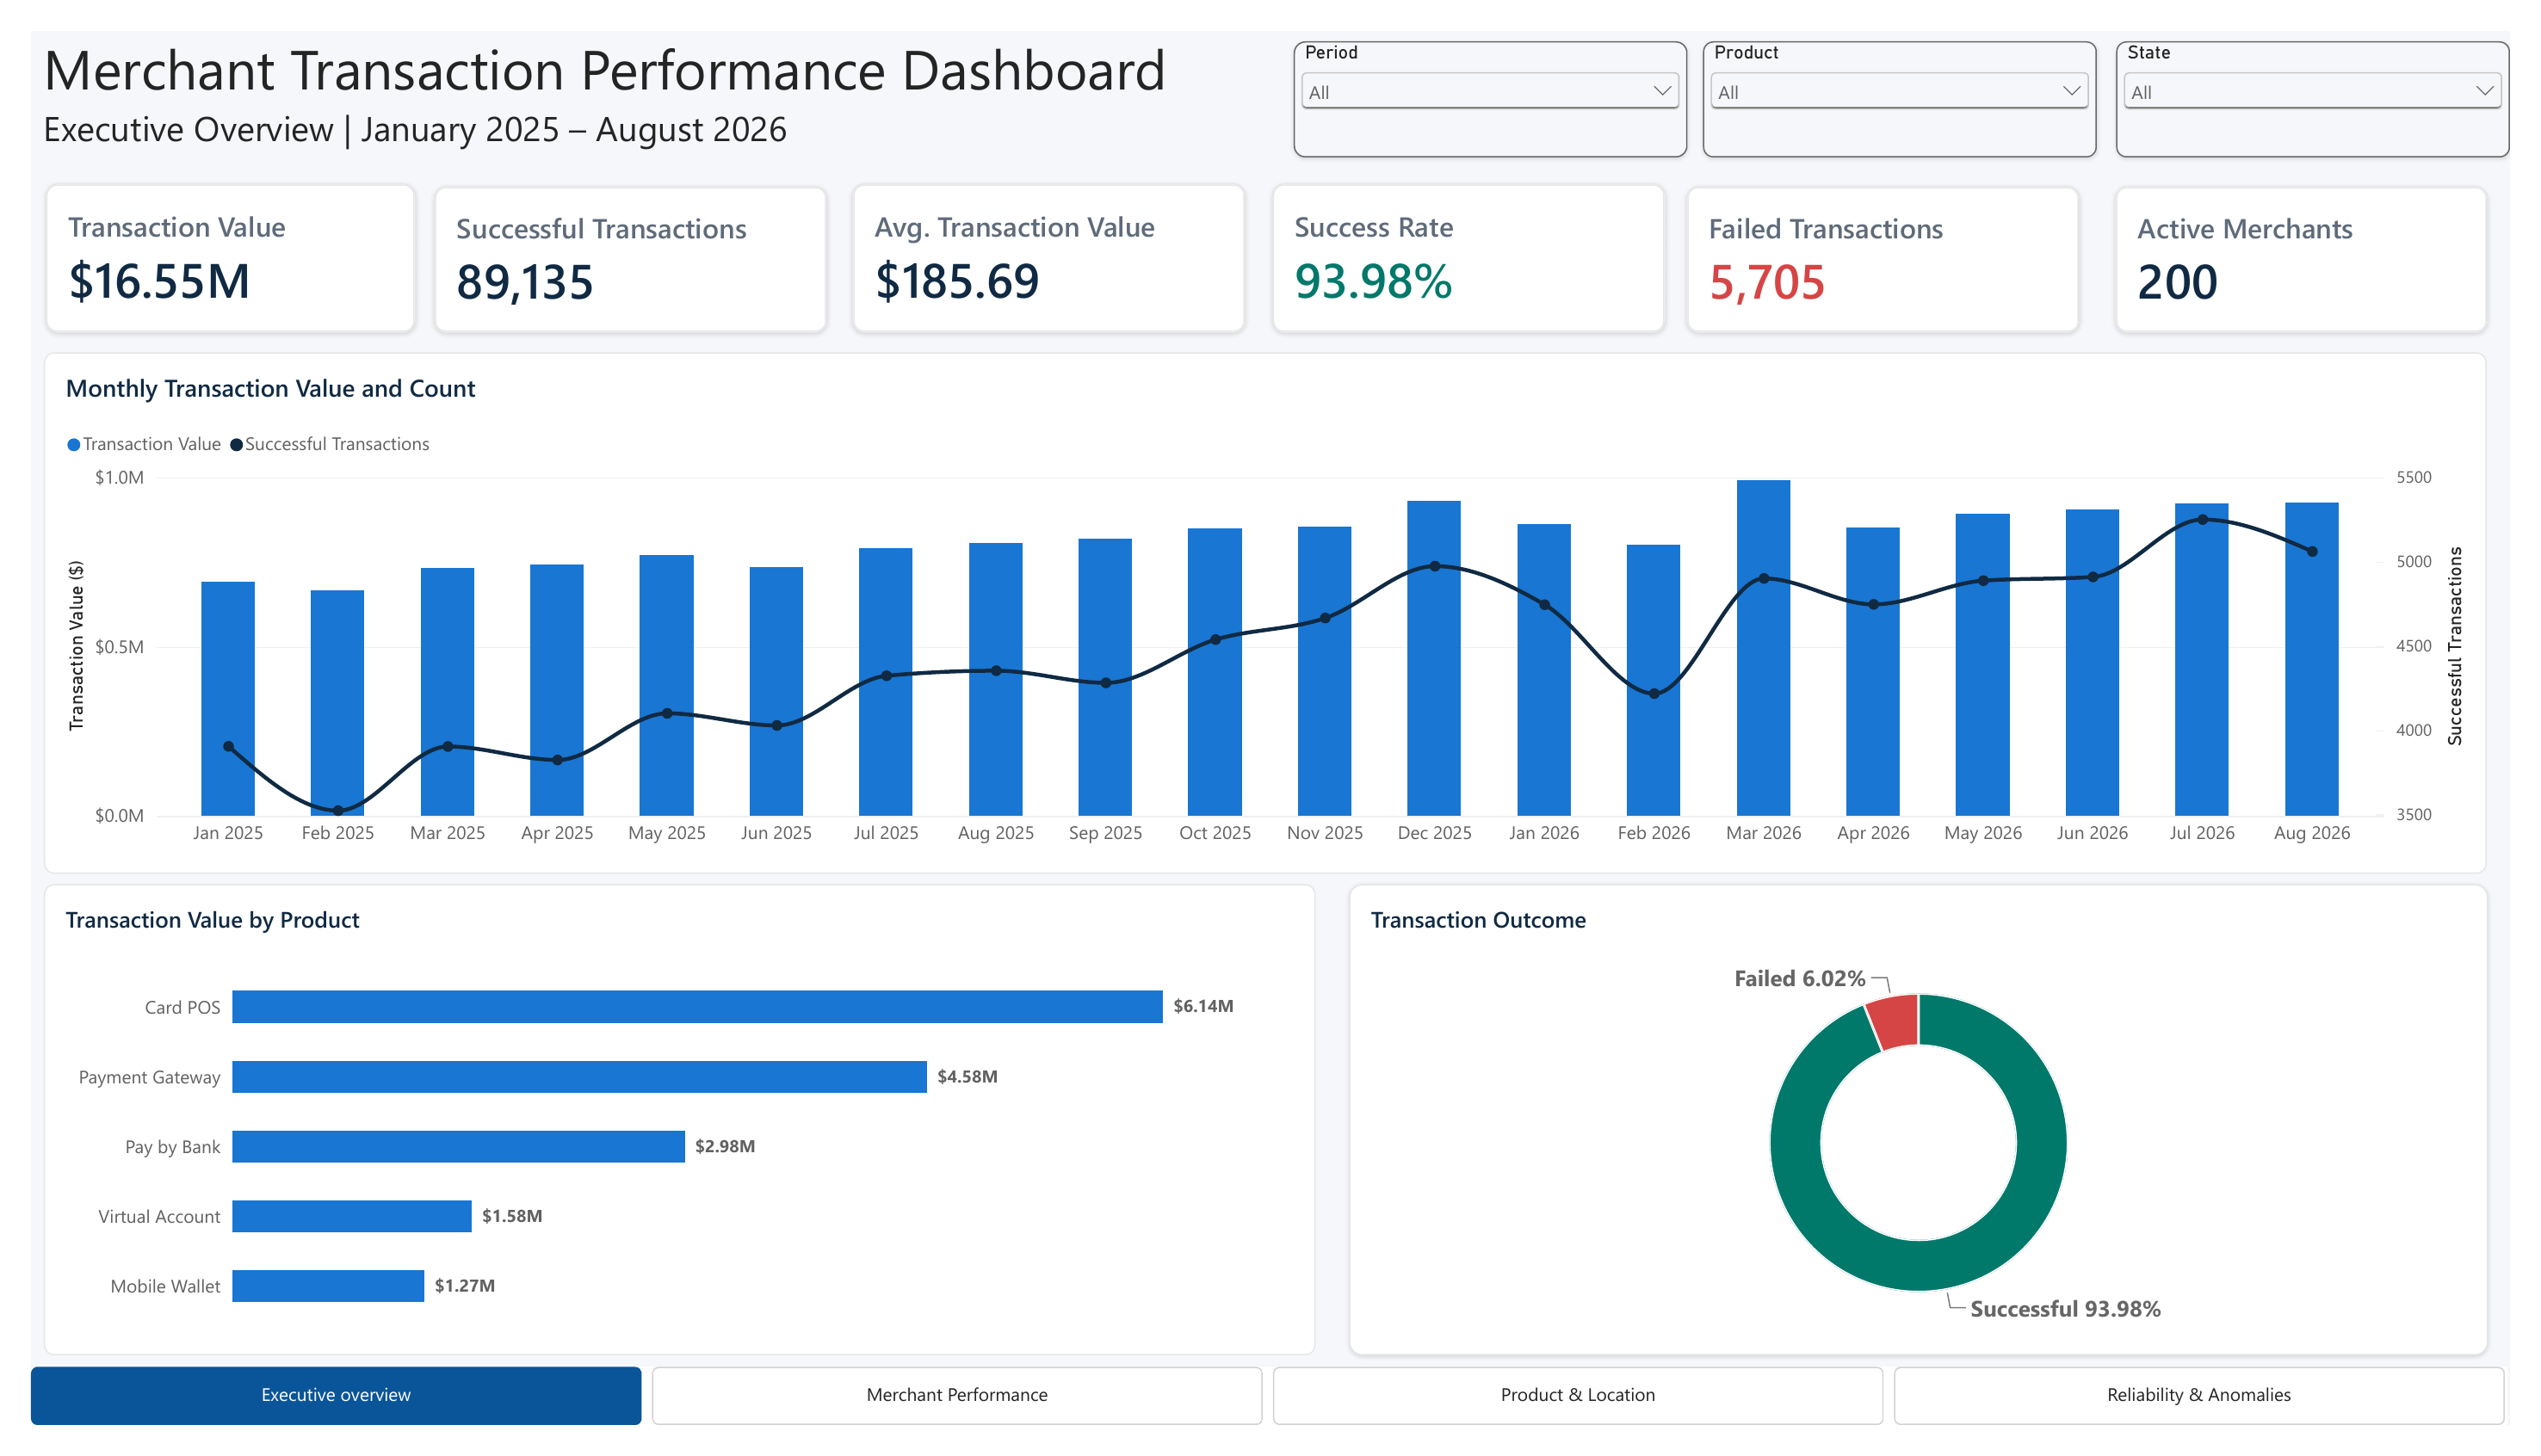

This screenshot's page, from the dashboard's own definition file:
{"tool":"powerbi","page":{"name":"Executive overview","canvas":[1920,1080],"ordinal":0},"visuals":[{"type":"textbox","box":[10,0,907.5,120],"z":0},{"type":"cardVisual","fields":{"Data":["_Measures.Transaction Value"]},"box":[10.9,118,286.9,116.2],"z":1000},{"type":"cardVisual","fields":{"Data":["_Measures.Active Merchants"]},"box":[1614.2,119.8,288.7,114.4],"z":2000},{"type":"cardVisual","fields":{"Data":["_Measures.Failed Transaction Count"]},"box":[1281.9,119.8,305,114.4],"z":3000},{"type":"cardVisual","fields":{"Data":["_Measures.Average Transaction Value"]},"box":[635.5,118,305,116.2],"z":4000},{"type":"cardVisual","fields":{"Data":["_Measures.Success Rate"]},"box":[960.5,118,305,116.2],"z":5000},{"type":"cardVisual","fields":{"Data":["_Measures.Transaction Count"]},"box":[312.3,119.8,305,114.4],"z":6000},{"type":"lineStackedColumnComboChart","title":"Monthly Transaction Value and Count","fields":{"Y":["_Measures.Transaction Value"],"Y2":["_Measures.Transaction Count"],"Category":["DimDate.Month Year"]},"box":[10.3,248.5,1891.7,404.6],"z":7000},{"type":"clusteredBarChart","title":"Transaction Value by Product","fields":{"Category":["products.product_name"],"Y":["_Measures.Transaction Value"]},"box":[10.3,661.4,985,365],"z":8000},{"type":"slicer","fields":{"Values":["DimDate.Month Year"]},"box":[977.5,7.5,305,90],"z":9000},{"type":"slicer","fields":{"Values":["locations.state"]},"box":[1615,7.5,305,90],"z":10000},{"type":"slicer","fields":{"Values":["products.product_name"]},"box":[1295,7.5,305,90],"z":11000},{"type":"donutChart","title":"Transaction Outcome","fields":{"Category":["transactions.status"],"Y":["_Measures.Transaction Attempts"]},"box":[1020.8,661.4,882.5,365],"z":12000},{"type":"pageNavigator","box":[0,1035.2,1918.4,45.2],"z":13000}]}

Visuals, with their boxes in screenshot pixels (x1, y1, x2, y2), scaled from the page's 1920x1080 canvas onto the 2541x1456 screenshot:
textbox: {"left": 13, "top": 0, "right": 1215, "bottom": 162}
cardVisual - _Measures.Transaction Value: {"left": 15, "top": 159, "right": 394, "bottom": 316}
cardVisual - _Measures.Active Merchants: {"left": 2136, "top": 162, "right": 2519, "bottom": 316}
cardVisual - _Measures.Failed Transaction Count: {"left": 1697, "top": 162, "right": 2100, "bottom": 316}
cardVisual - _Measures.Average Transaction Value: {"left": 841, "top": 159, "right": 1245, "bottom": 316}
cardVisual - _Measures.Success Rate: {"left": 1271, "top": 159, "right": 1675, "bottom": 316}
cardVisual - _Measures.Transaction Count: {"left": 413, "top": 162, "right": 817, "bottom": 316}
"Monthly Transaction Value and Count" lineStackedColumnComboChart: {"left": 14, "top": 335, "right": 2517, "bottom": 880}
"Transaction Value by Product" clusteredBarChart: {"left": 14, "top": 891, "right": 1317, "bottom": 1384}
slicer - DimDate.Month Year: {"left": 1294, "top": 10, "right": 1697, "bottom": 132}
slicer - locations.state: {"left": 2137, "top": 10, "right": 2540, "bottom": 132}
slicer - products.product_name: {"left": 1714, "top": 10, "right": 2117, "bottom": 132}
"Transaction Outcome" donutChart: {"left": 1351, "top": 891, "right": 2519, "bottom": 1384}
pageNavigator: {"left": 0, "top": 1396, "right": 2539, "bottom": 1455}
